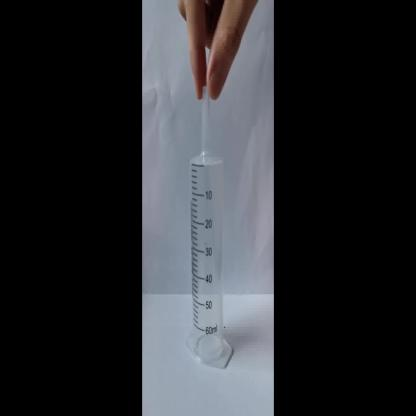dry: (186, 100, 236, 371)
